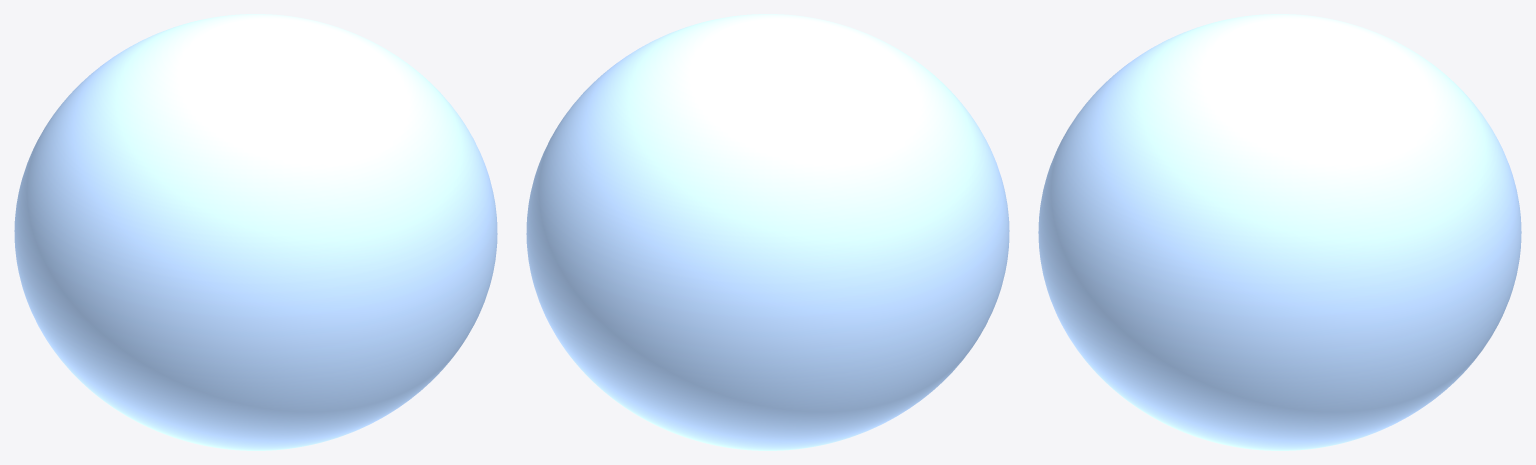
File: vega-roche-photosphere.glb
The picture shows the model from 3 angles, left to right: view 1: azimuth 30°, elevation 25°; view 2: azimuth 150°, elevation 25°; view 3: azimuth 270°, elevation 25°; orthographic projection.
Parts seen in each view (by area): view 1: Vega modeled Roche photosphere; view 2: Vega modeled Roche photosphere; view 3: Vega modeled Roche photosphere.
Boxes of the visible parts, x1=… form: Vega modeled Roche photosphere: x1=14, y1=14, x2=497, y2=450; Vega modeled Roche photosphere: x1=526, y1=14, x2=1009, y2=450; Vega modeled Roche photosphere: x1=1038, y1=14, x2=1521, y2=450.
Bounding box in the file's own units: 3792956 × 3364405 × 3792956.
Materials: 1 (1 with a texture image).
